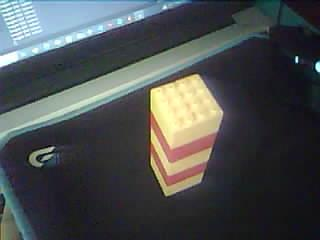lego: (150, 73, 222, 198)
